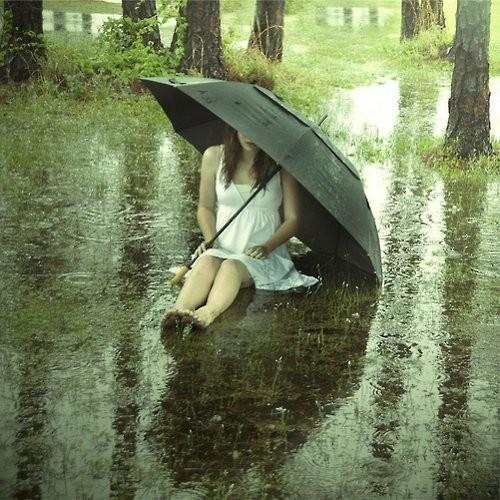person: (162, 128, 317, 329)
